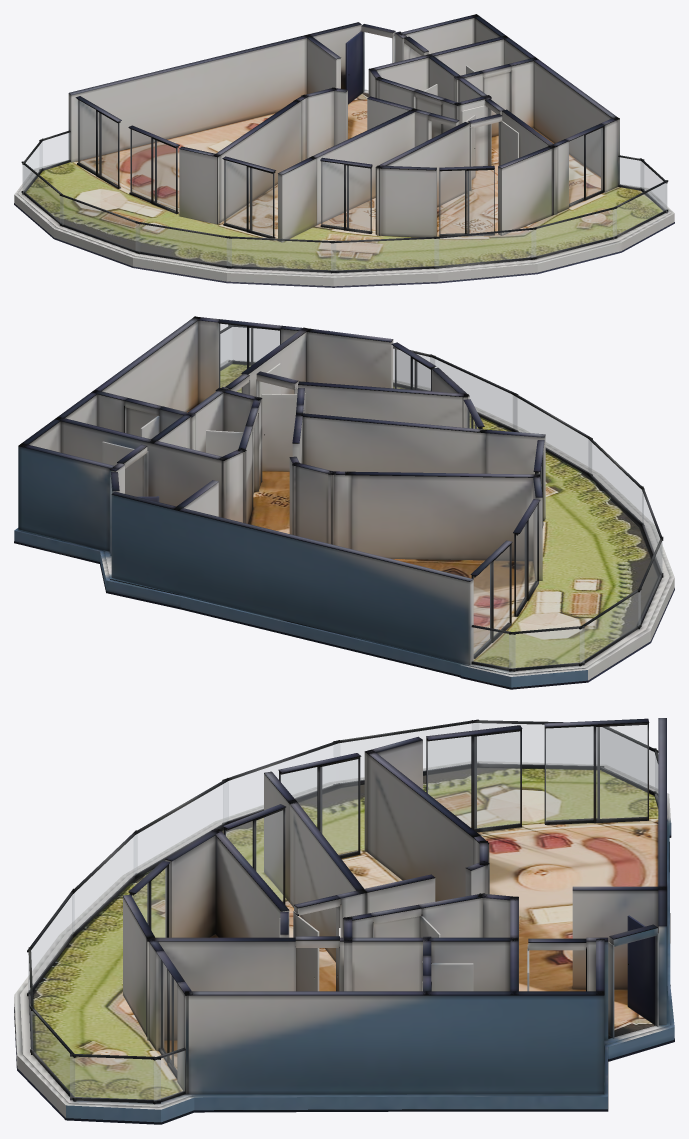
3 renders of one model, top to bottom at view 1: azimuth 30°, elevation 25°; view 2: azimuth 150°, elevation 25°; view 3: azimuth 270°, elevation 25°, orthographic. The views are drawn at different scales.
Parts seen in each view (by area): view 1: plan, glass4_m, glass3_m, glass2_m, railg6_m, railg5_m, railg4_m, glass1_m, railg7_m, glass0_m, railg3_m, railg8_m (+7 smaller); view 2: plan, railg10_m, railg5_m, glass0_m, glass5_m, railg9_m, railg4_m, railg6_m, railg11_m, glass1_m, railg2_m, glass4_m (+3 smaller); view 3: plan, glass0_m, glass1_m, glass2_m, railg9_m, railg6_m, railg1_m, railg7_m, railg8_m, glass3_m, railg5_m, railg10_m (+5 smaller).
Part boxes in pixels (left/top/right/bottom): plan: left=14, top=14, right=674, bottom=287; glass4_m: left=439, top=170, right=493, bottom=234; glass3_m: left=321, top=161, right=370, bottom=231; glass2_m: left=224, top=160, right=274, bottom=236; railg6_m: left=227, top=238, right=335, bottom=270; railg5_m: left=331, top=239, right=438, bottom=270; railg4_m: left=434, top=230, right=535, bottom=266; glass1_m: left=130, top=129, right=175, bottom=210; railg7_m: left=136, top=223, right=231, bottom=266; glass0_m: left=78, top=100, right=119, bottom=186; railg3_m: left=531, top=209, right=616, bottom=257; railg8_m: left=60, top=196, right=139, bottom=251; plan: left=14, top=316, right=674, bottom=689; railg10_m: left=509, top=628, right=584, bottom=668; railg5_m: left=513, top=395, right=591, bottom=473; glass0_m: left=473, top=547, right=509, bottom=655; glass5_m: left=219, top=324, right=279, bottom=392; railg9_m: left=580, top=591, right=640, bottom=663; railg4_m: left=430, top=357, right=516, bottom=429; railg6_m: left=588, top=440, right=643, bottom=524; railg11_m: left=472, top=627, right=515, bottom=668; glass1_m: left=516, top=507, right=536, bottom=614; railg2_m: left=233, top=327, right=279, bottom=361; glass4_m: left=394, top=347, right=430, bottom=390; plan: left=14, top=718, right=674, bottom=1124; glass0_m: left=545, top=725, right=647, bottom=821; glass1_m: left=427, top=731, right=519, bottom=828; glass2_m: left=280, top=759, right=357, bottom=855; railg9_m: left=472, top=723, right=592, bottom=765; railg6_m: left=134, top=781, right=228, bottom=875; railg1_m: left=70, top=1057, right=160, bottom=1100; railg7_m: left=223, top=743, right=339, bottom=822; railg8_m: left=334, top=723, right=478, bottom=783; glass3_m: left=225, top=810, right=282, bottom=901; railg5_m: left=72, top=835, right=136, bottom=934; railg10_m: left=600, top=727, right=657, bottom=793.
Size of the model in its own units: 17.07 by 2.62 by 13.66.
Materials: 2 (1 with a texture image).
